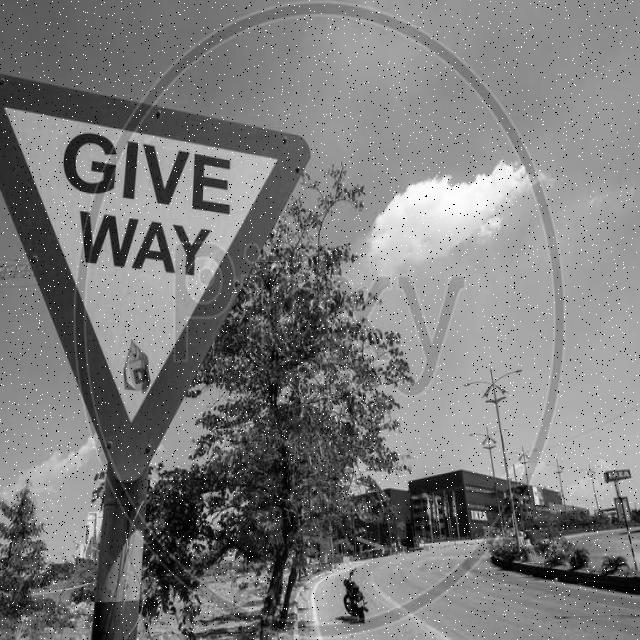giveway: (0, 81, 309, 491)
